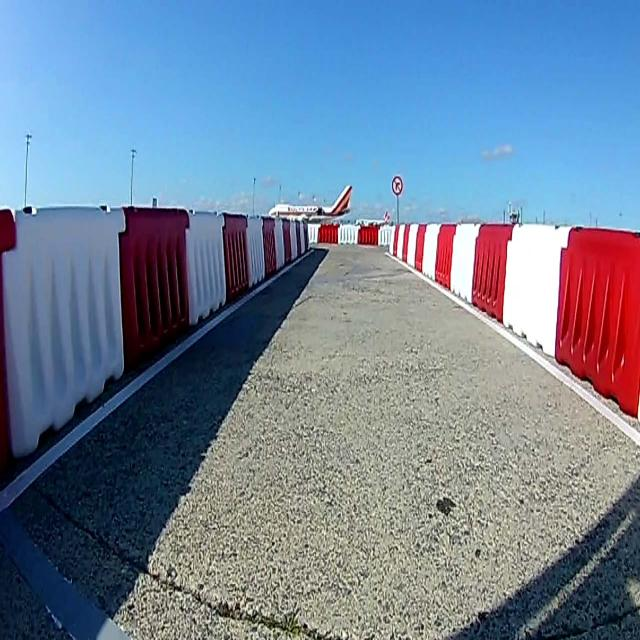sagadonulmez: (392, 176, 403, 196)
